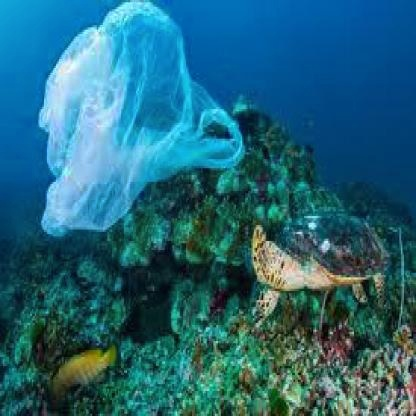pbag: (38, 2, 242, 236)
